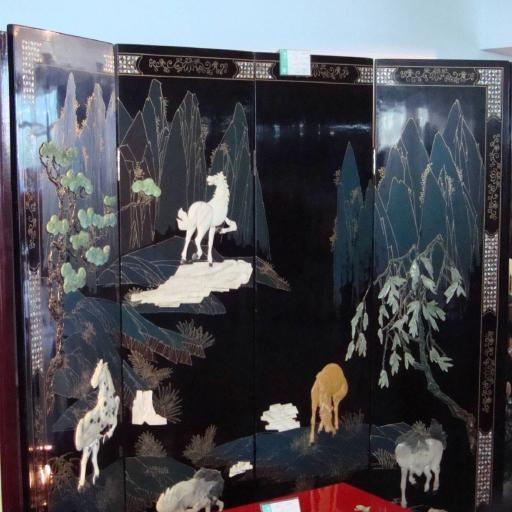horse: (74, 358, 120, 494), (174, 170, 238, 266), (392, 418, 446, 508), (310, 360, 348, 448), (152, 467, 225, 512)
